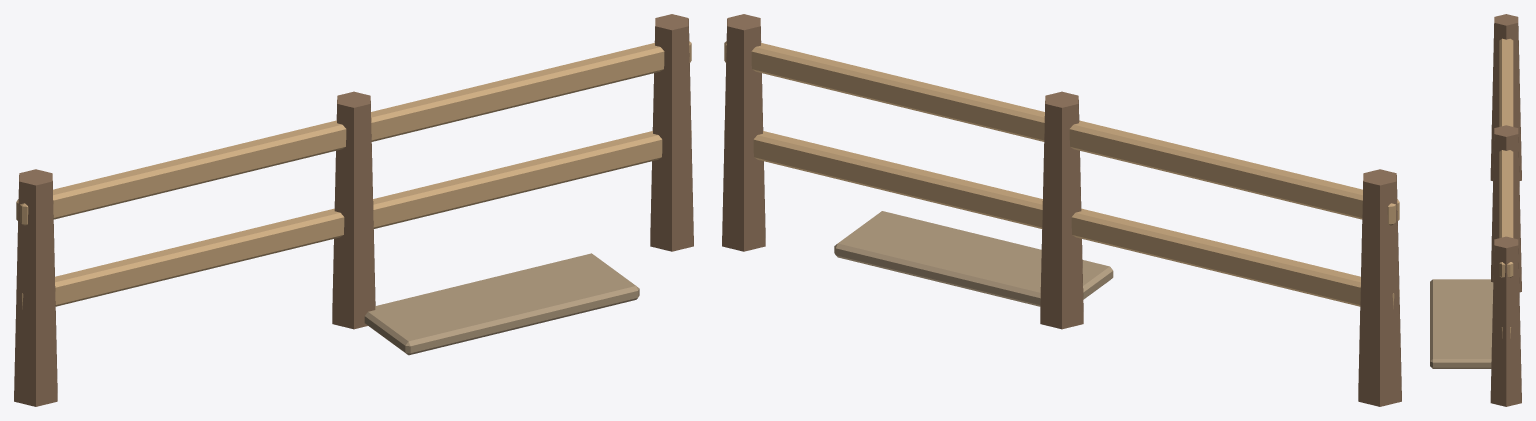
File: cow-pen-fence.glb
3 views of the same model, side by side, from view 1: azimuth 30°, elevation 25°; view 2: azimuth 150°, elevation 25°; view 3: azimuth 270°, elevation 25° (orthographic). The views are drawn at different scales.
Visible parts, largest first — view 1: cow-pen-fence; view 2: cow-pen-fence; view 3: cow-pen-fence.
Boxes of the visible parts, <box> form: cow-pen-fence: <box>14,14,693,406</box>; cow-pen-fence: <box>722,14,1401,406</box>; cow-pen-fence: <box>1430,14,1521,406</box>.
Size of the model in its own units: 4.06 by 1.25 by 0.6625.
